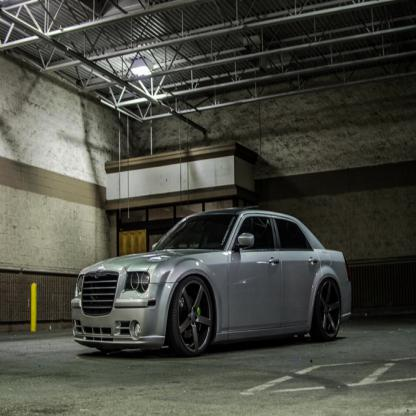Car: (69, 207, 354, 358)
